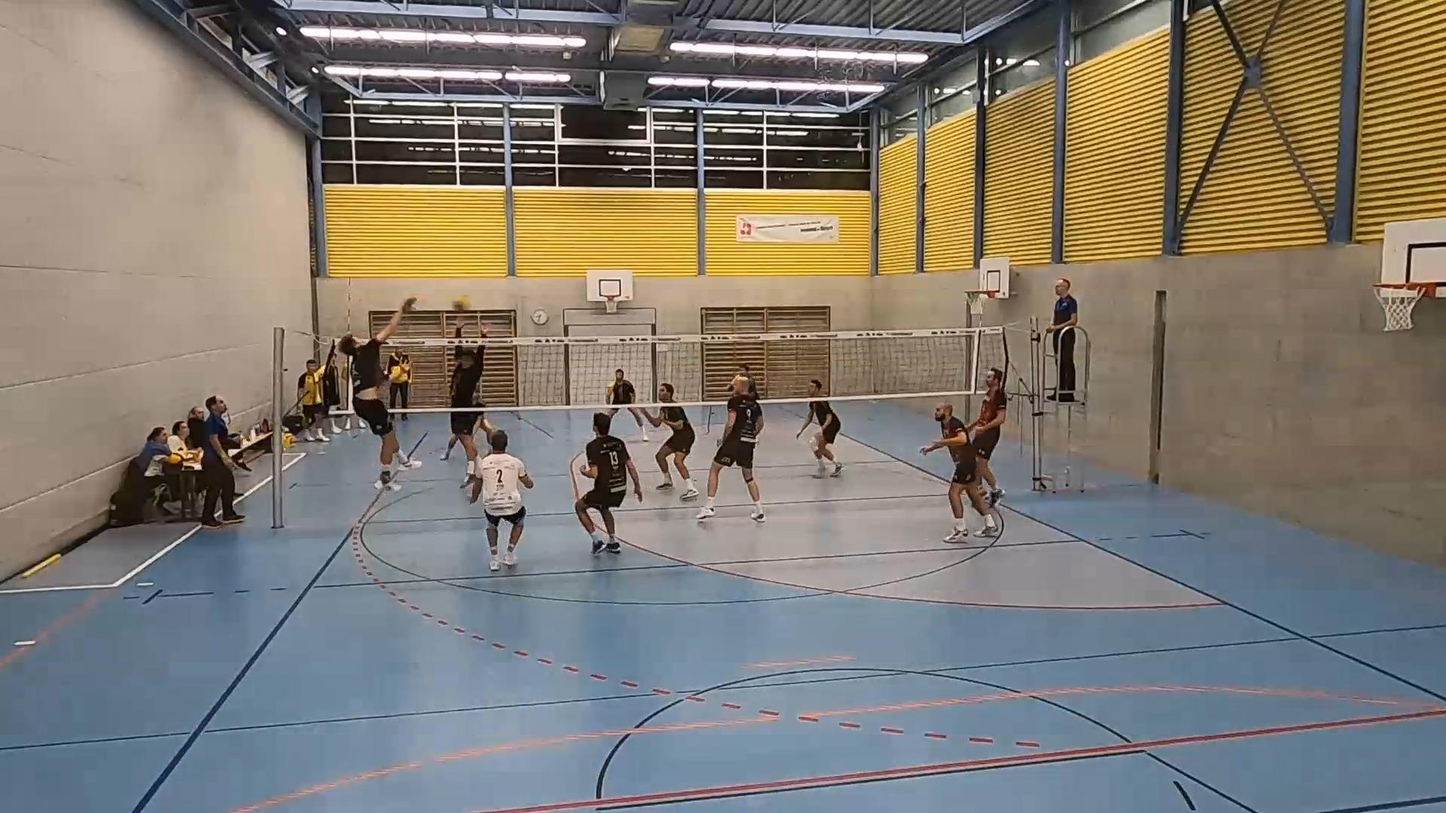attacco: (321, 290, 425, 502)
muro: (443, 316, 488, 511)
